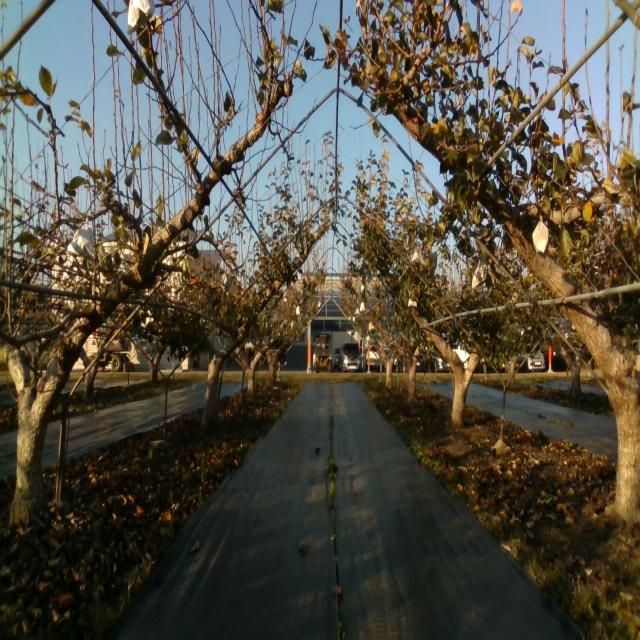pearbags: (67, 218, 95, 258), (127, 0, 154, 32), (531, 214, 549, 258), (472, 261, 486, 294), (410, 243, 424, 266), (220, 274, 232, 294)
